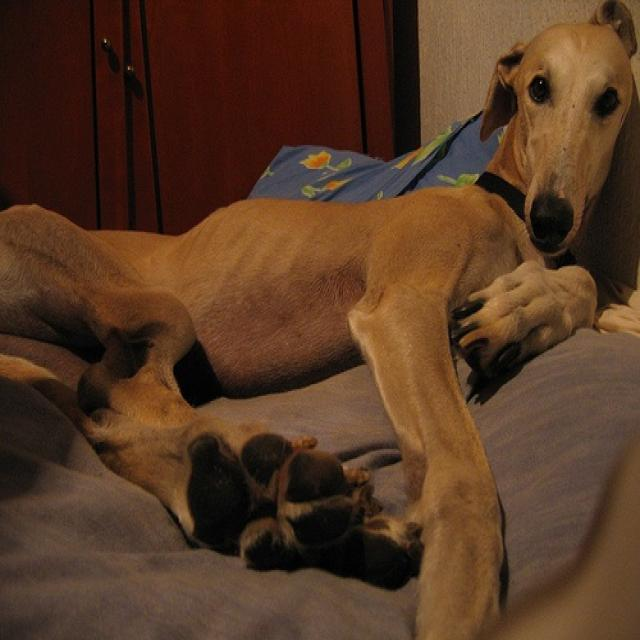dog: (3, 5, 636, 637)
